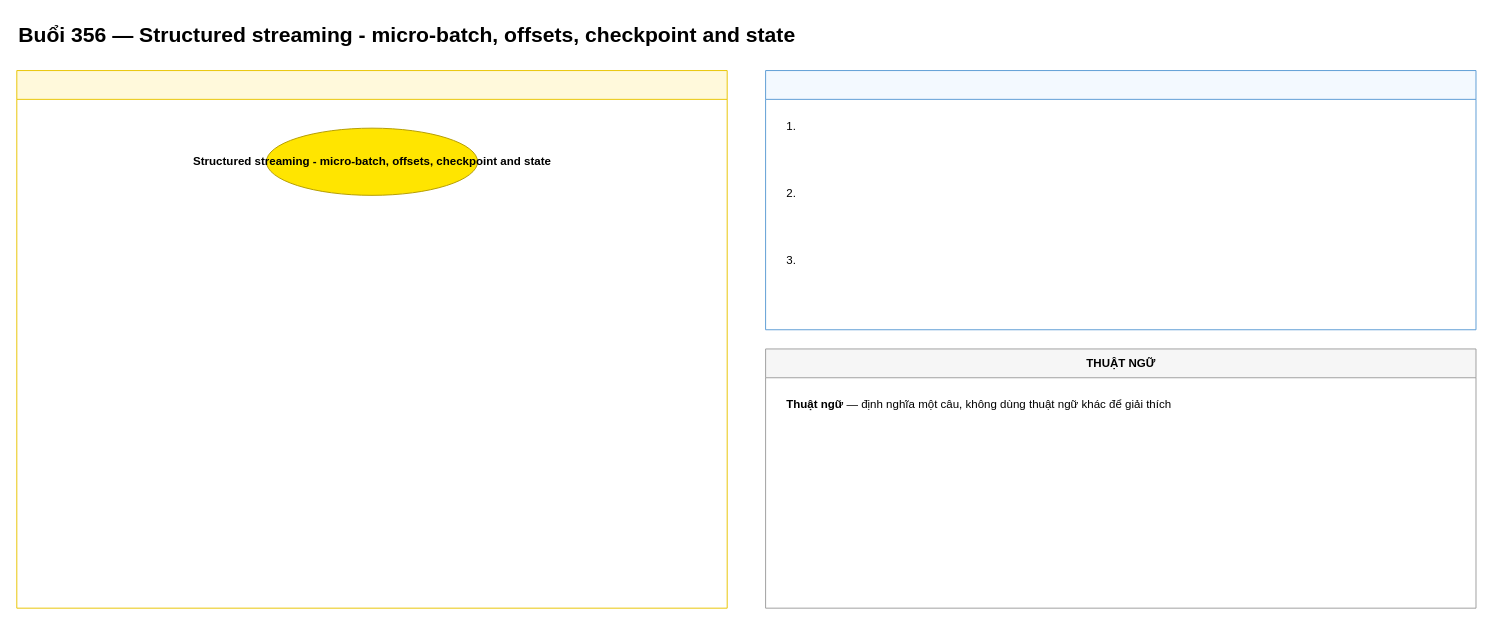
Some shapes in this 1493 by 625 pixel diagram are drawn without their labels. Each missing label, with the box of its shape:
KEY TAKEAWAY — ba điều phải nhớ: (765, 70, 1476, 330)
MINDMAP: (16, 70, 727, 608)
